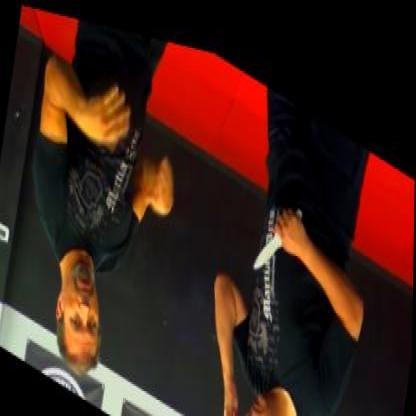knife: (250, 161, 308, 285)
